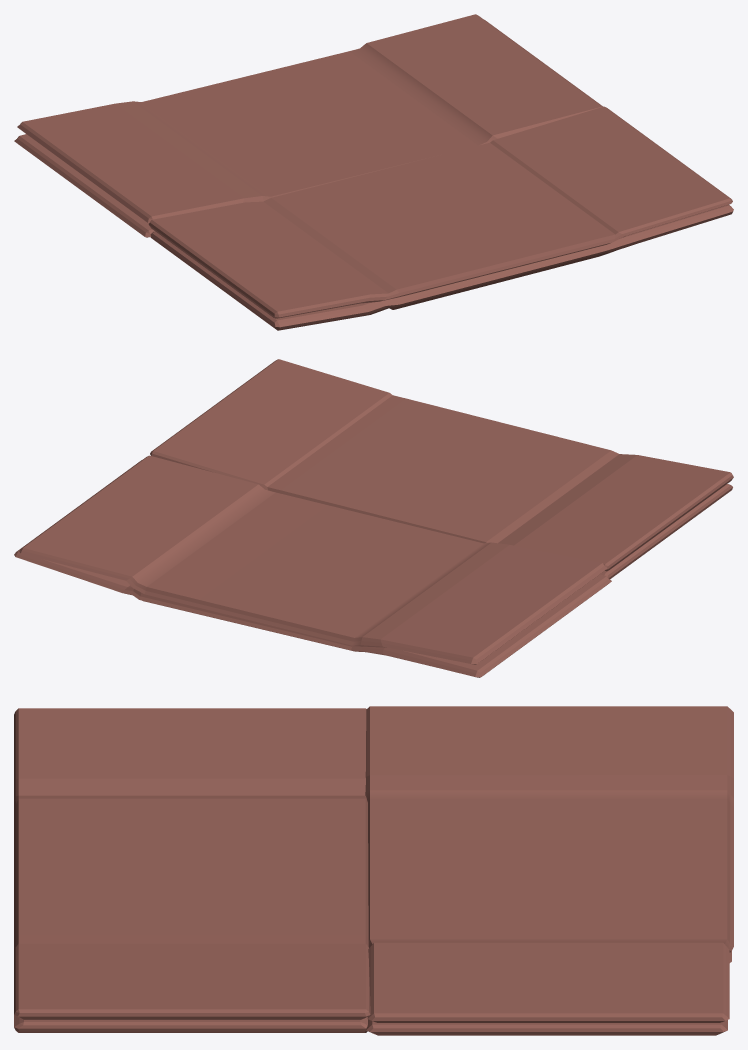
The model's file is BrokenDownMovingBoxA.fbx.
3 views of the same model, one above another, from view 1: azimuth 30°, elevation 25°; view 2: azimuth 150°, elevation 25°; view 3: azimuth 270°, elevation 25° (orthographic). The views are drawn at different scales.
Parts seen in each view (by area): view 1: BrokenDownMovingBoxA; view 2: BrokenDownMovingBoxA; view 3: BrokenDownMovingBoxA.
Part boxes in pixels (box(x1,y1,x2,y2)): BrokenDownMovingBoxA: box(14, 14, 733, 330); BrokenDownMovingBoxA: box(14, 359, 733, 677); BrokenDownMovingBoxA: box(14, 706, 733, 1035).
Size of the model in its own units: 2.18 by 0.1319 by 2.1.
